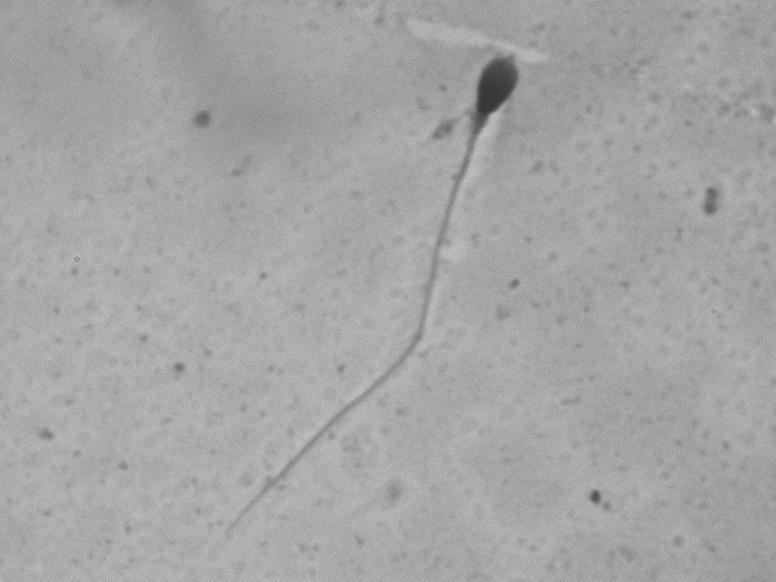Abnormal: (213, 31, 549, 521)
